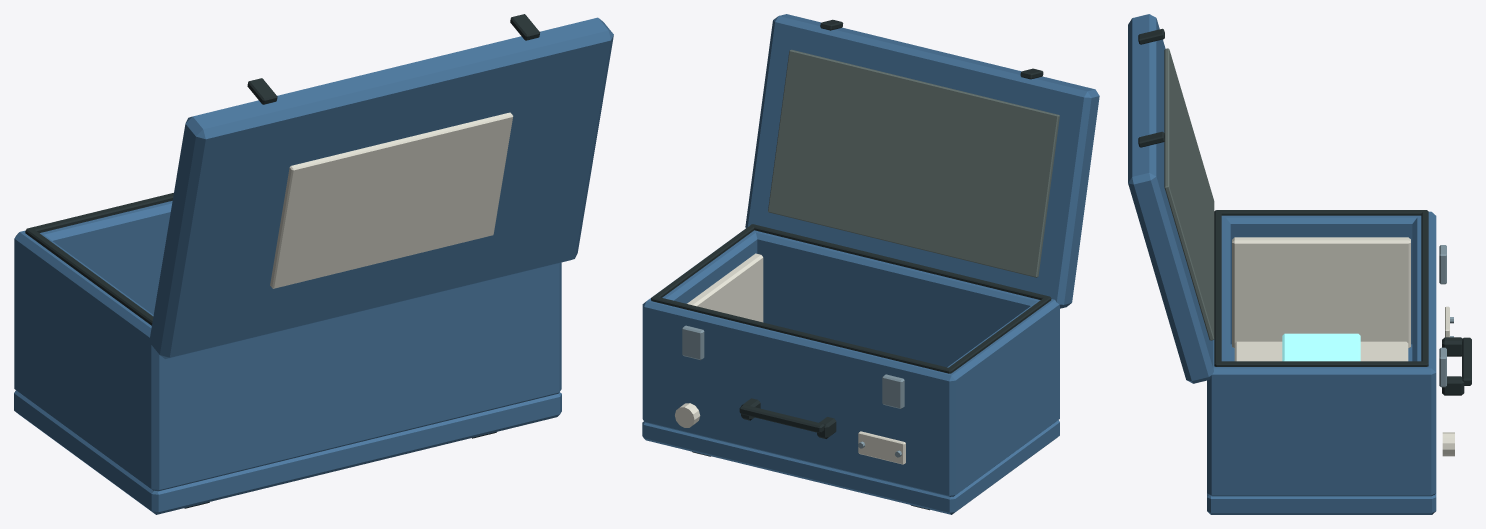
Rendered from insulated_seafood_chest_opened.glb.
3 renders of one model, left to right at view 1: azimuth 30°, elevation 25°; view 2: azimuth 150°, elevation 25°; view 3: azimuth 270°, elevation 25°, orthographic. The views are drawn at different scales.
Parts seen in each view (by area): view 1: moving_lid, body_back_wall, body_side_wall (×2), moving_lid_identity, body_floor, body_front_wall, rim_seal (×2); view 2: moving_lid_pad, body_front_wall, moving_lid, body_back_wall, body_side_wall (×2), body_floor, rim_seal (×4), insulation_side, latch_base (×2), cold_wave_plate, front_carry_grip; view 3: body_side_wall (×2), insulation_side, moving_lid, moving_lid_pad, rim_seal (×4), body_floor, body_front_wall, body_back_wall, ice_pack, insulated_floor, front_carry_grip.
Boxes of the visible parts, left/top/right/bottom form: moving_lid: left=149, top=17, right=613, bottom=358; body_back_wall: left=142, top=263, right=559, bottom=490; body_side_wall (×2): left=14, top=230, right=561, bottom=491; moving_lid_identity: left=270, top=112, right=513, bottom=288; body_floor: left=14, top=390, right=561, bottom=514; body_front_wall: left=14, top=201, right=172, bottom=390; rim_seal (×2): left=25, top=193, right=173, bottom=325; moving_lid_pad: left=768, top=49, right=1059, bottom=277; body_front_wall: left=644, top=298, right=961, bottom=496; moving_lid: left=745, top=14, right=1099, bottom=308; body_back_wall: left=753, top=230, right=1059, bottom=422; body_side_wall (×2): left=642, top=228, right=1059, bottom=496; body_floor: left=642, top=420, right=1059, bottom=514; rim_seal (×4): left=651, top=224, right=1051, bottom=373; insulation_side: left=687, top=253, right=763, bottom=322; latch_base (×2): left=682, top=325, right=904, bottom=408; cold_wave_plate: left=858, top=431, right=905, bottom=464; front_carry_grip: left=739, top=404, right=824, bottom=433; body_side_wall (×2): left=1207, top=211, right=1436, bottom=496; insulation_side: left=1232, top=237, right=1410, bottom=347; moving_lid: left=1128, top=14, right=1213, bottom=383; moving_lid_pad: left=1164, top=48, right=1214, bottom=340; rim_seal (×4): left=1214, top=210, right=1428, bottom=366; body_floor: left=1207, top=344, right=1436, bottom=514; body_front_wall: left=1412, top=212, right=1436, bottom=496; body_back_wall: left=1211, top=215, right=1230, bottom=495; ice_pack: left=1282, top=333, right=1360, bottom=361; insulated_floor: left=1234, top=341, right=1408, bottom=361; front_carry_grip: left=1462, top=337, right=1471, bottom=385.
Size of the model in its own units: 1.38 by 1.45 by 1.23.
